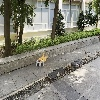fire: (38, 52, 48, 62)
